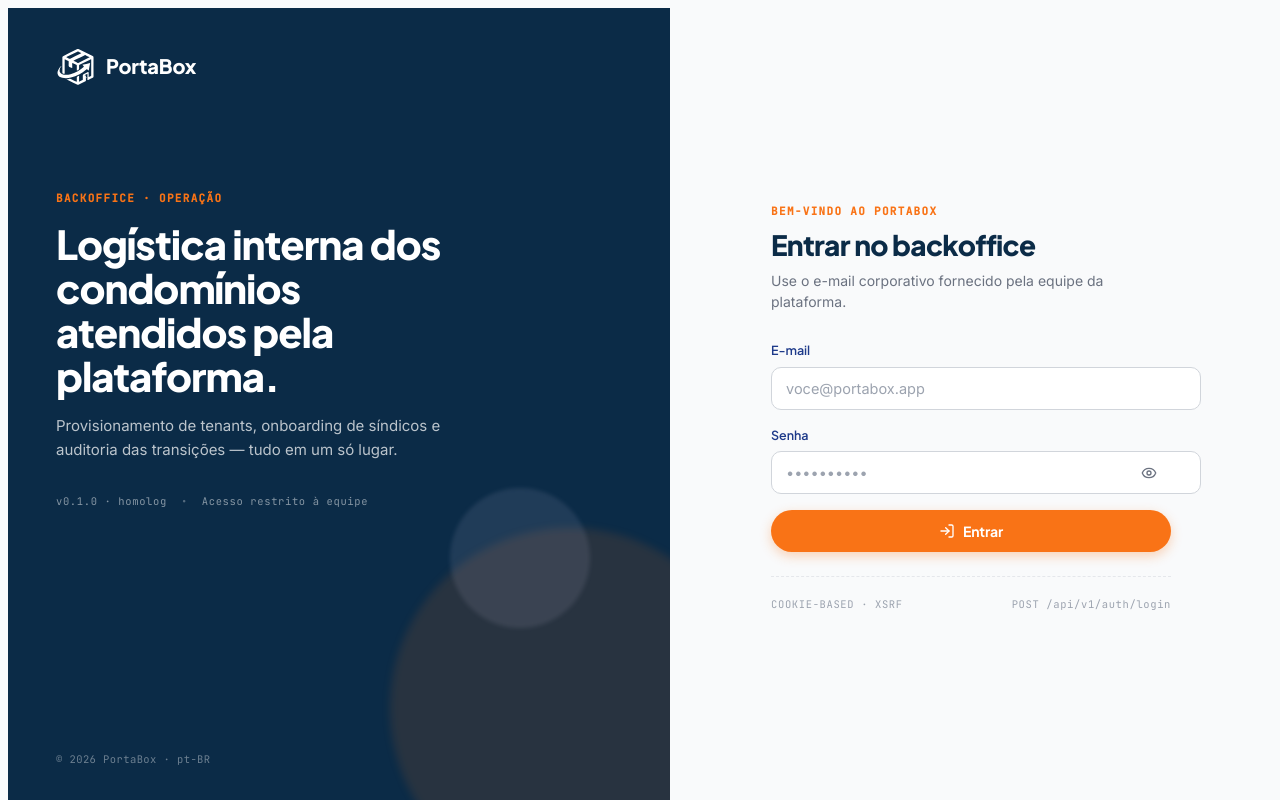
Scenario: LoginPage › shows error message on failed login
Type "bad@example.com" into the field labelled "E-mail" at [986, 388], box [771, 367, 1201, 410]
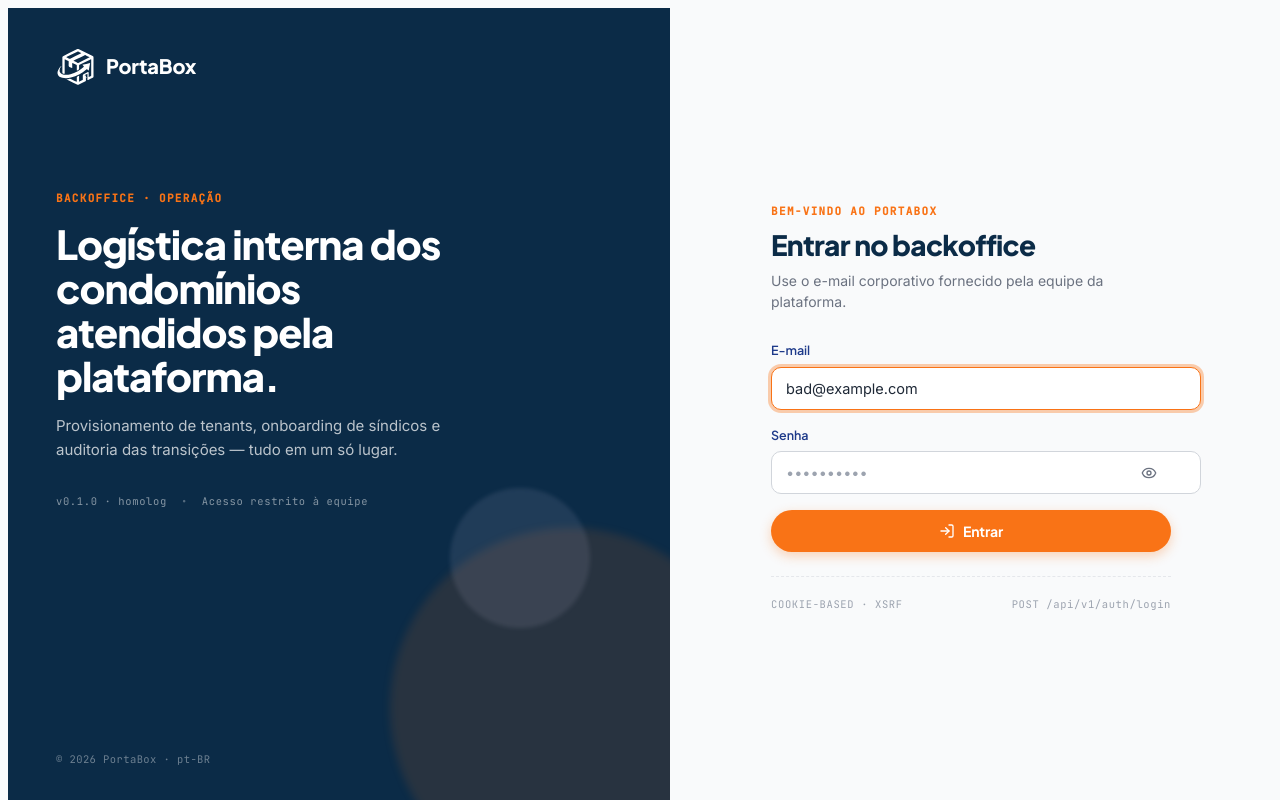
Type "wrong" into the password field labelled "Senha" at [986, 473], box [771, 451, 1201, 494]
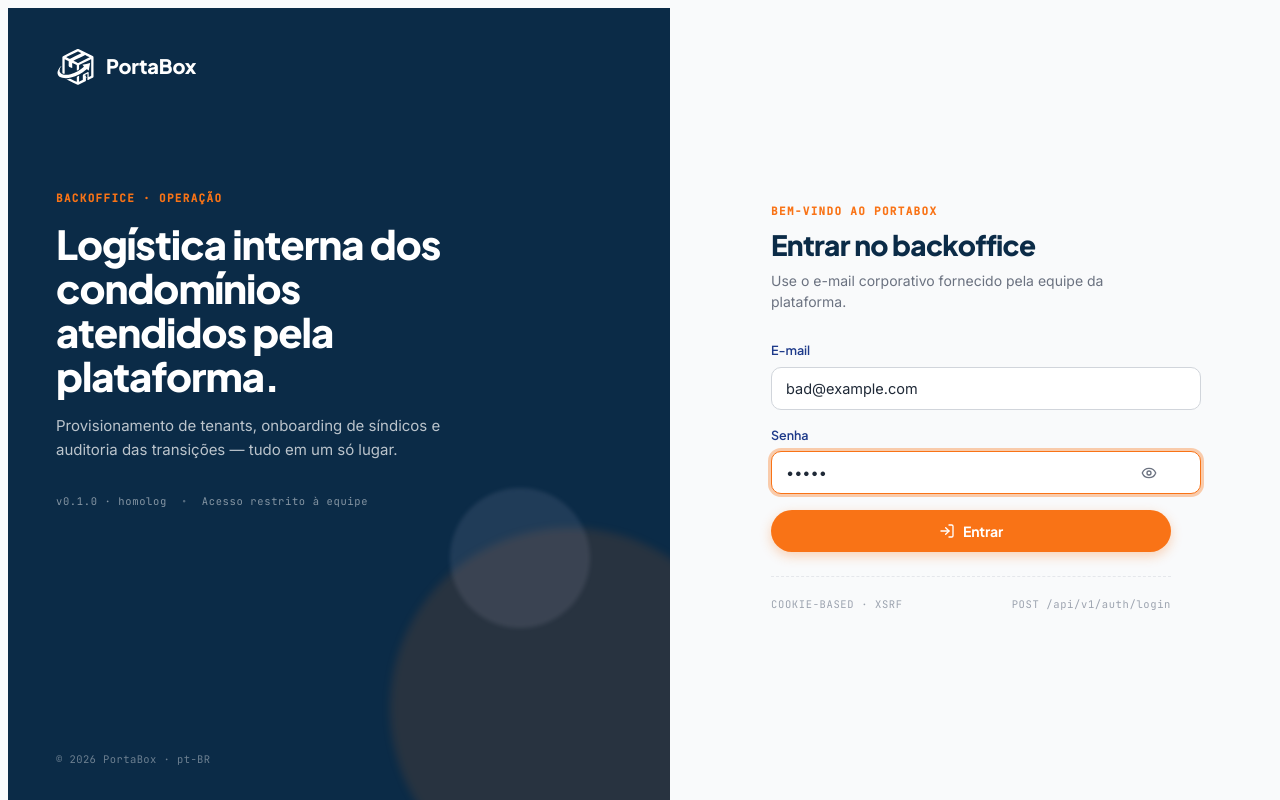
Click the button "Entrar" at [971, 531], box [771, 510, 1171, 552]
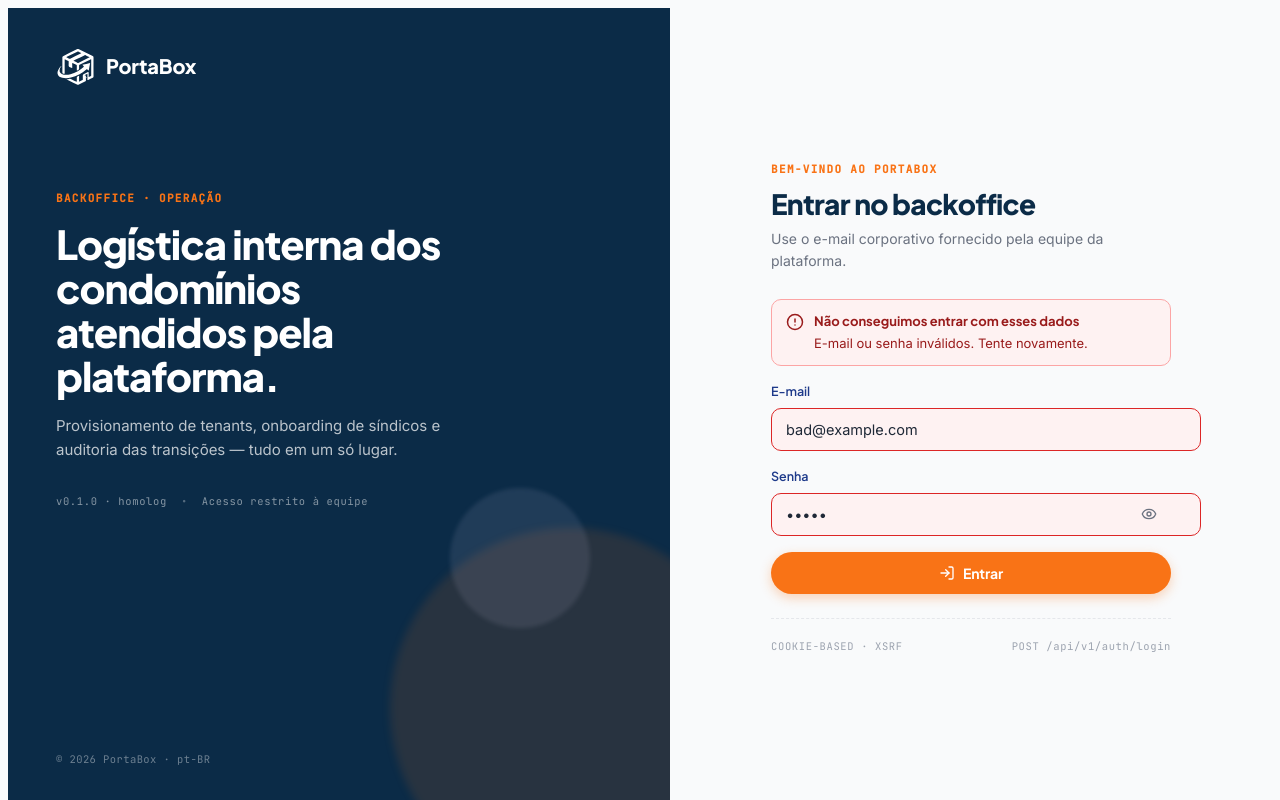
Result: the message shows "E-mail ou senha inválidos" at [814, 335, 1088, 351]
